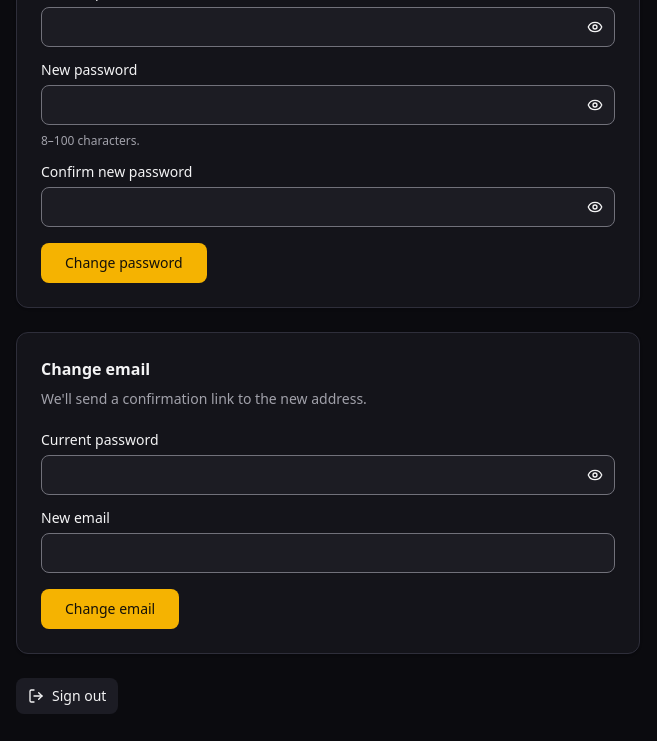
Test: forms: limitedNoRetryAfter › profile › change email shows the form alert
(page scrolled)
Type "old-password" into the 2nd password field labelled "Current password" at (328, 475), box [41,455,615,495]
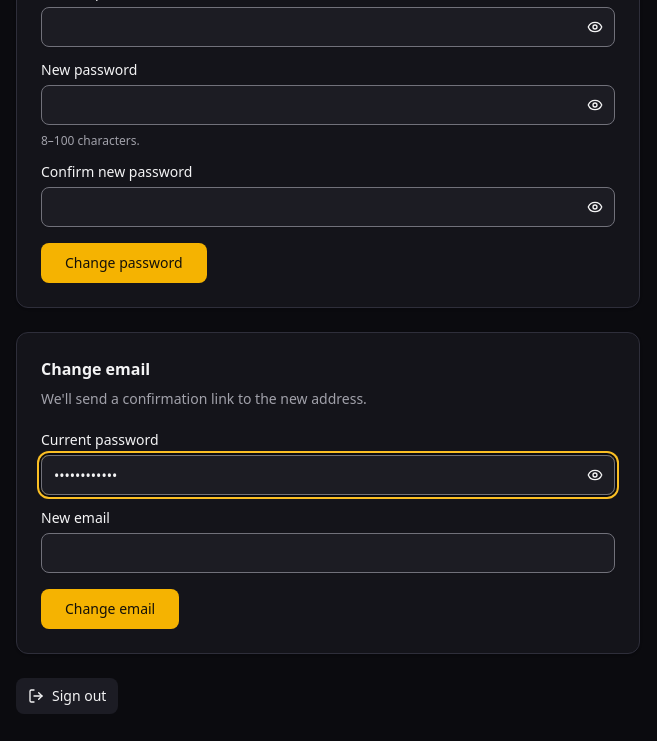
Type "new@example.com" into the field labelled "New email" at (328, 553), box [41,533,615,573]
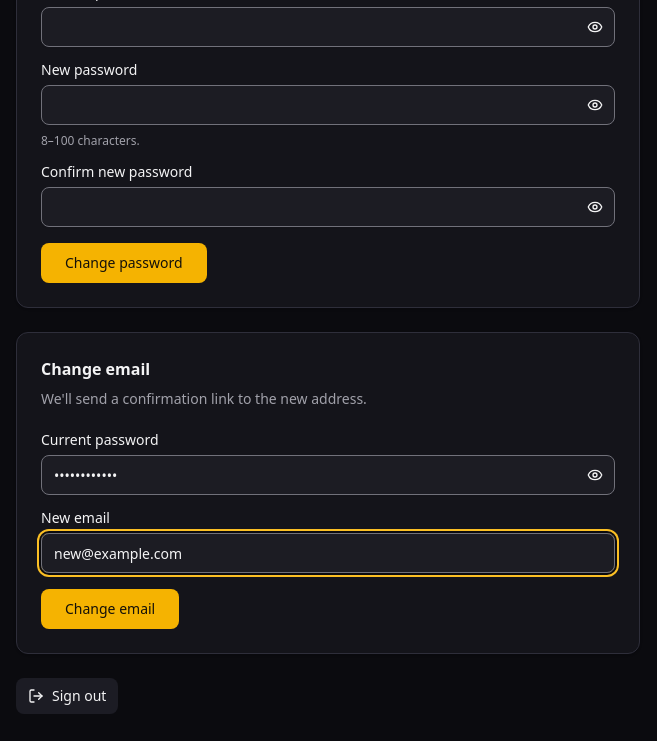
Click the button "Change email" at (110, 609), box [41,589,179,629]
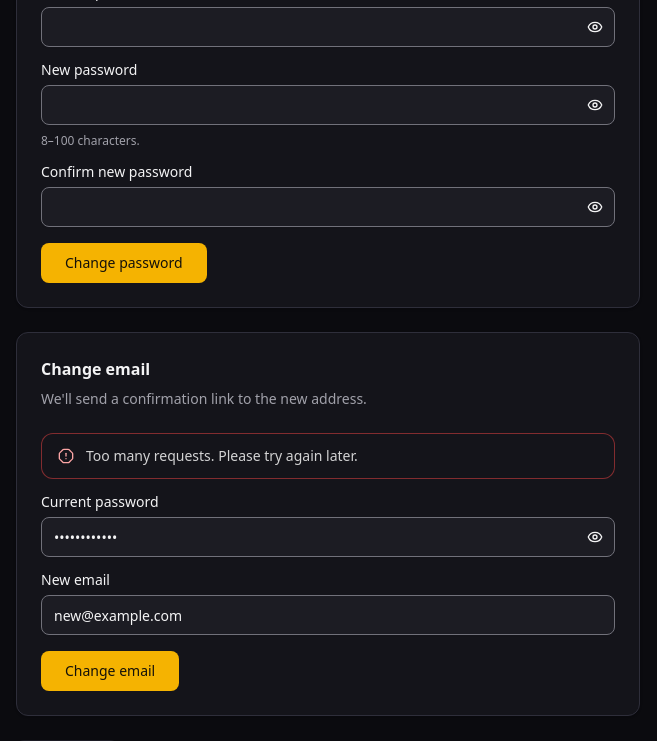
Expected: the button "Change email" is enabled, [41,651,179,691]
Result: the message reads "Too many requests. Please try again later." at [86,446,358,465]
